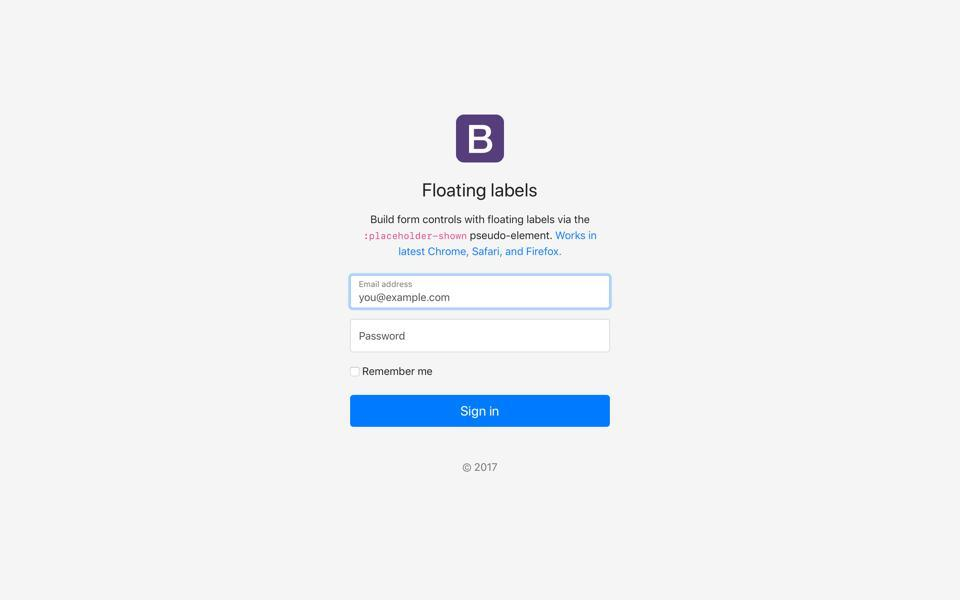button: (351, 394, 612, 427)
checkbox: (350, 368, 361, 379)
input: (350, 318, 612, 355), (351, 276, 611, 310)
label: (363, 366, 434, 378)
